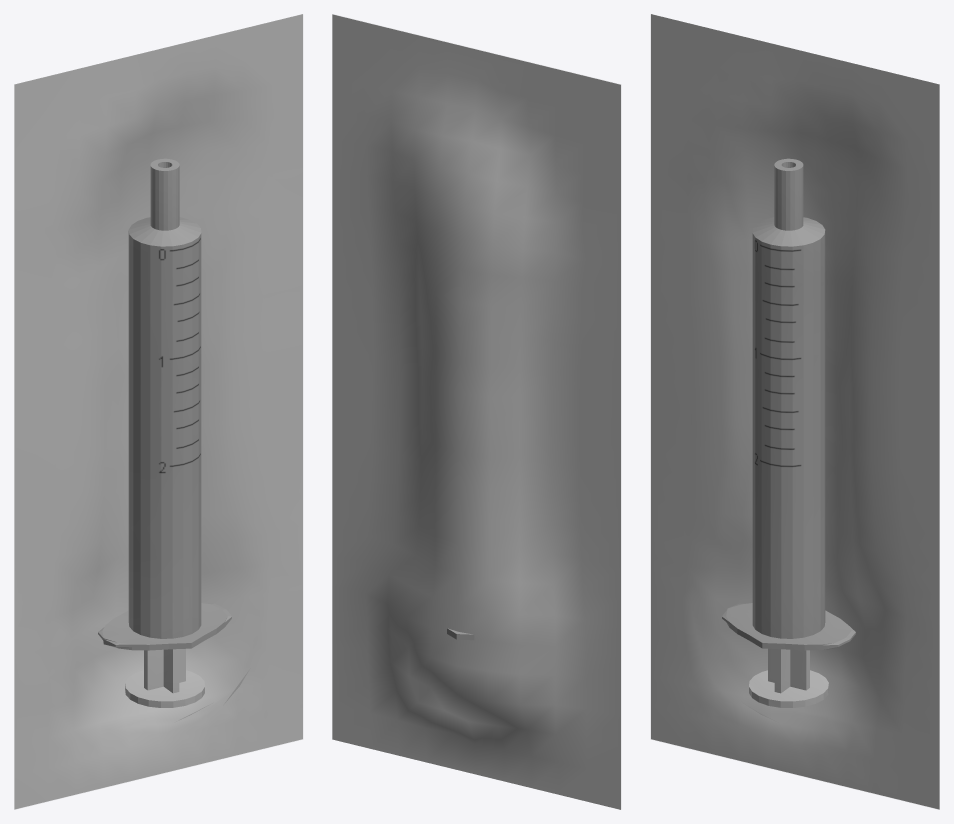
The model's file is syringe_2ml.fbx.
3 views of the same model, side by side, from view 1: azimuth 30°, elevation 25°; view 2: azimuth 150°, elevation 25°; view 3: azimuth 330°, elevation 25° (orthographic).
Parts seen in each view (by area): view 1: syringe_2ml_cover_back, syringe_2ml_out, syringe_2ml_in; view 2: syringe_2ml_cover_back; view 3: syringe_2ml_cover_back, syringe_2ml_out, syringe_2ml_in.
Part boxes in pixels (bbox=[...]): syringe_2ml_cover_back: bbox=[14, 14, 302, 809]; syringe_2ml_out: bbox=[98, 158, 231, 650]; syringe_2ml_in: bbox=[125, 649, 204, 707]; syringe_2ml_cover_back: bbox=[332, 14, 620, 809]; syringe_2ml_cover_back: bbox=[651, 14, 939, 809]; syringe_2ml_out: bbox=[722, 158, 855, 650]; syringe_2ml_in: bbox=[749, 649, 828, 707].
Size of the model in its own units: 4.55 by 10.93 by 1.47.
